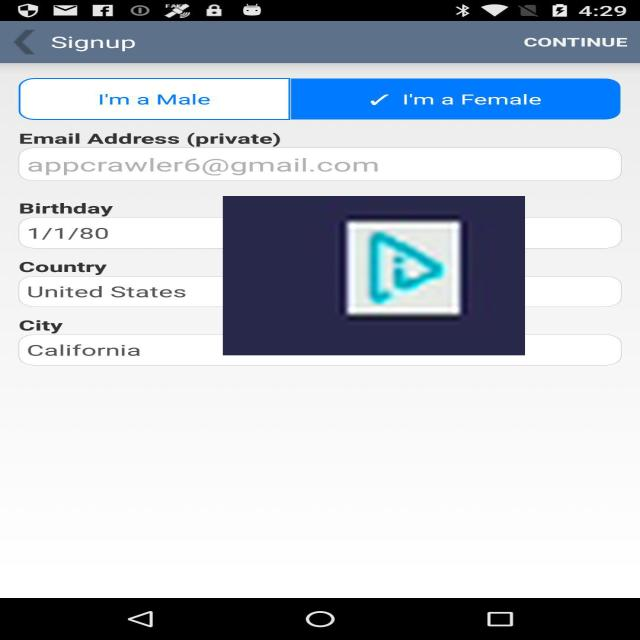sneaking: (223, 196, 525, 355)
